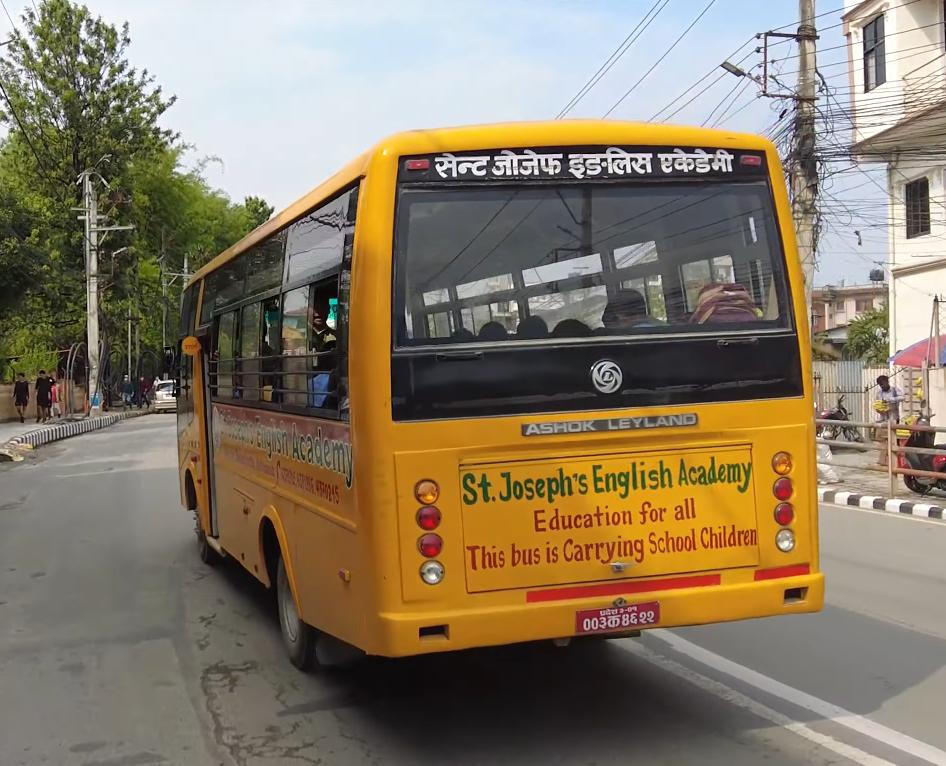school_bus: (163, 117, 829, 692)
